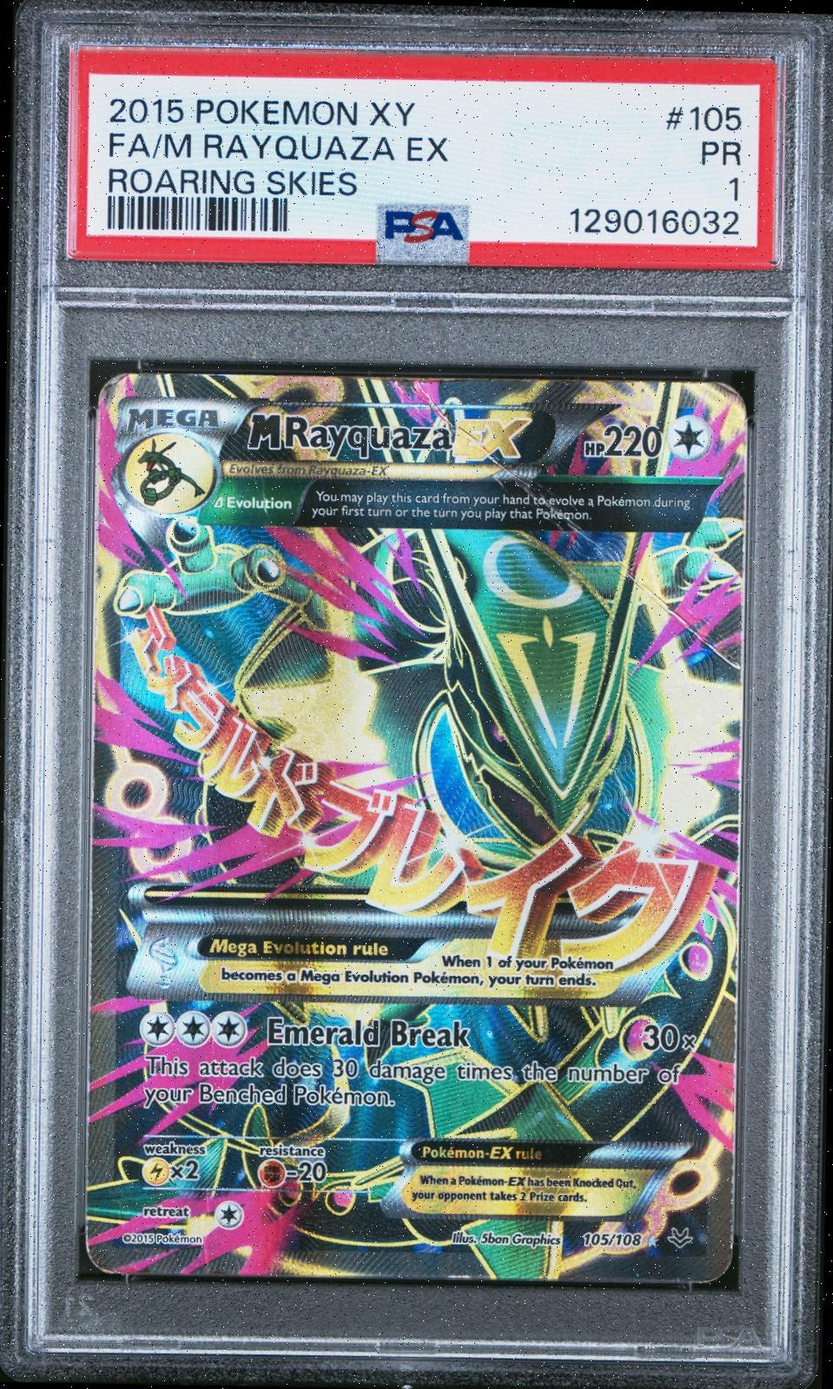card-2UtV: (83, 371, 746, 1283)
